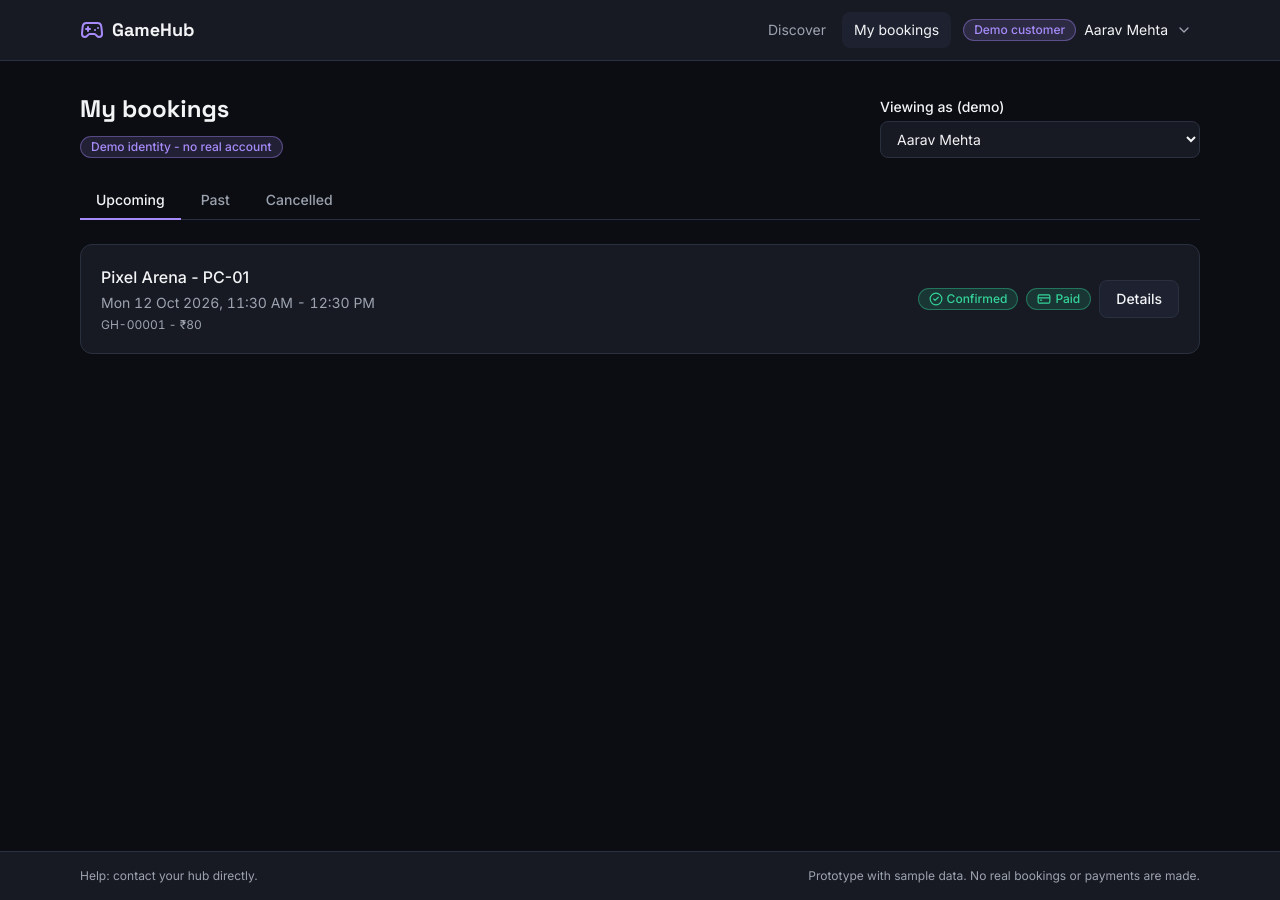
Test: My bookings page › switches the demo customer and links to details
expect the text "GH-00001 - ₹80" is shown: met, box [101,317,202,332]
Step 1. Select "Isha Kulkarni" in the dropdown labelled "Viewing as (demo)" → x=1040, y=140, box [880,121,1200,158]
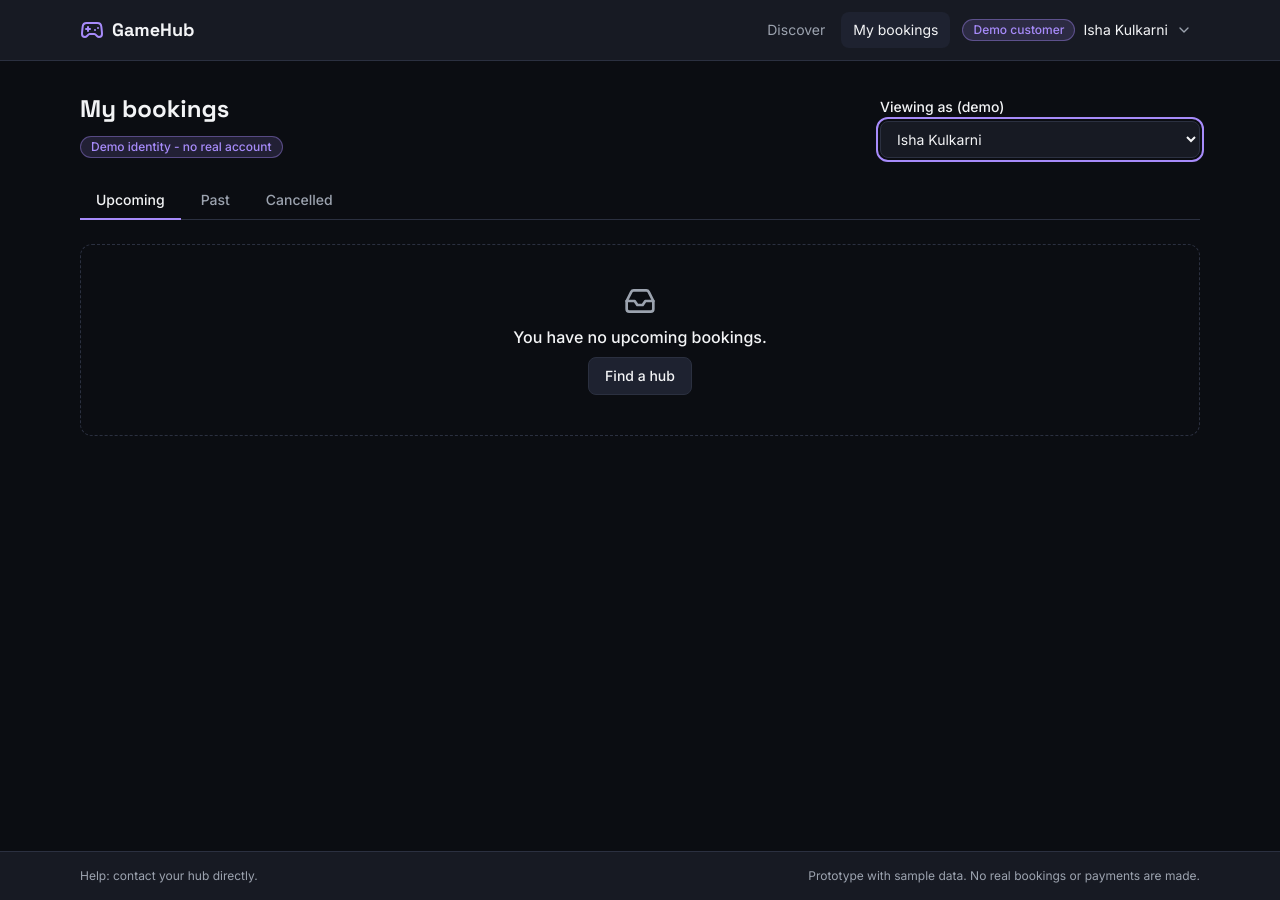
Step 2. Click the tab "Past" → x=215, y=201, box [185,182,246,220]
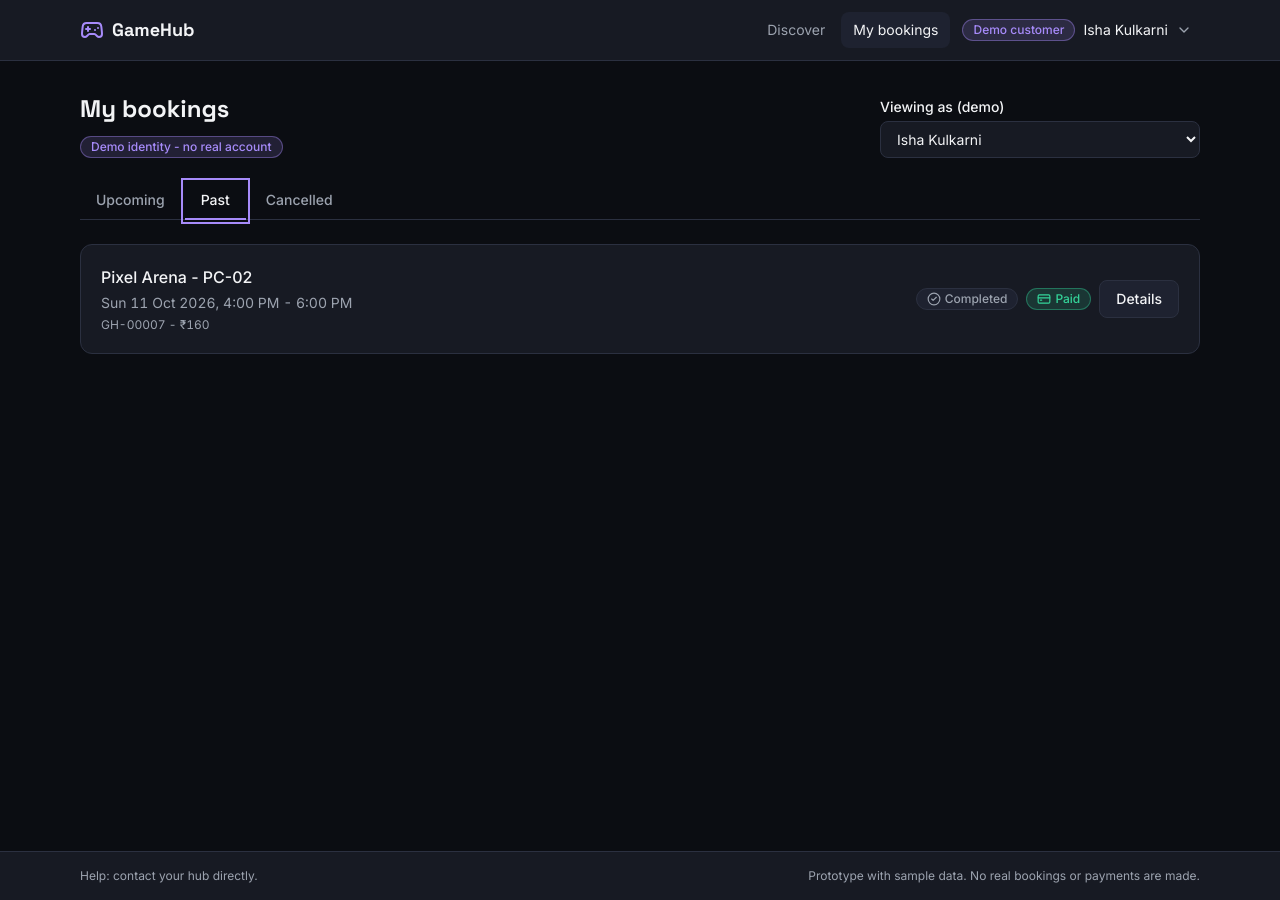
expect the text "GH-00007 - ₹160" is shown: met, box [101,317,210,332]
